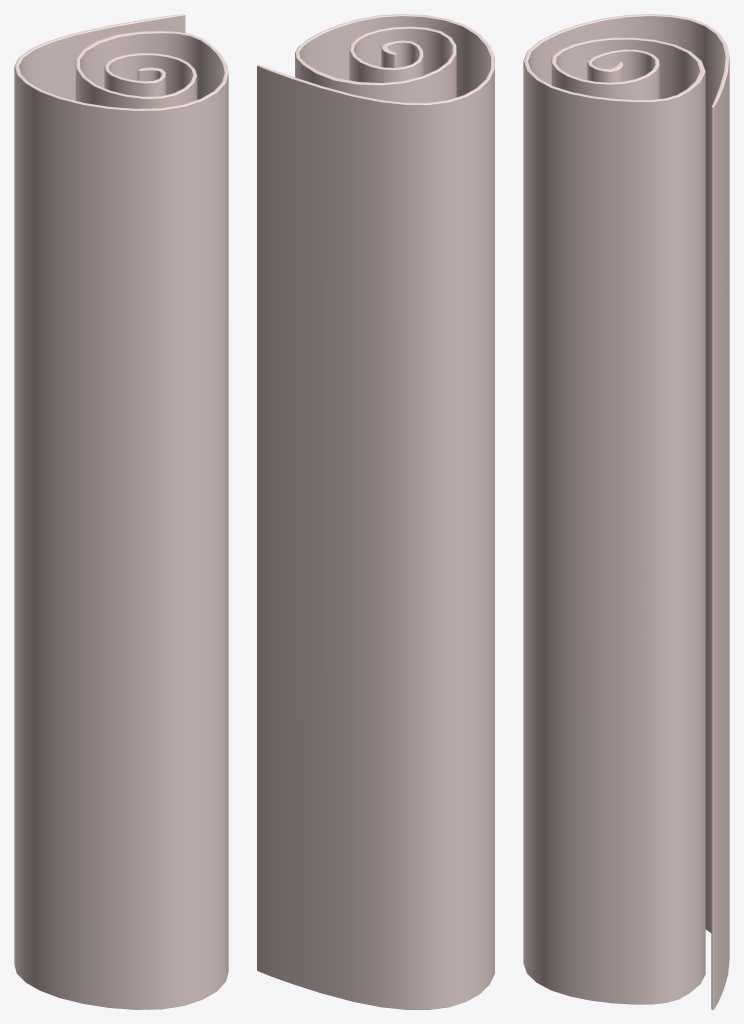
The model's file is Public_2_Scroll_3.glb.
The picture shows the model from 3 angles, left to right: view 1: azimuth 30°, elevation 25°; view 2: azimuth 150°, elevation 25°; view 3: azimuth 270°, elevation 25°; orthographic projection.
Visible parts, largest first — view 1: Public_2_Scroll_3; view 2: Public_2_Scroll_3; view 3: Public_2_Scroll_3.
Part boxes in pixels (x1,y1,x2,y2): Public_2_Scroll_3: (14, 14, 228, 1009); Public_2_Scroll_3: (257, 14, 494, 1009); Public_2_Scroll_3: (523, 14, 729, 1009).
Bounding box in the file's own units: 0.384 × 1.73 × 0.3588.
Materials: 1 (1 with a texture image).
